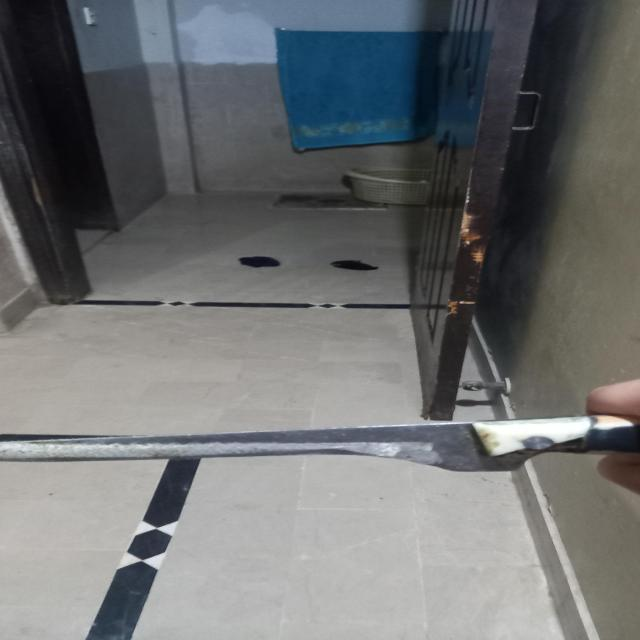Knife: (0, 412, 640, 474)
Person: (584, 376, 640, 494)
